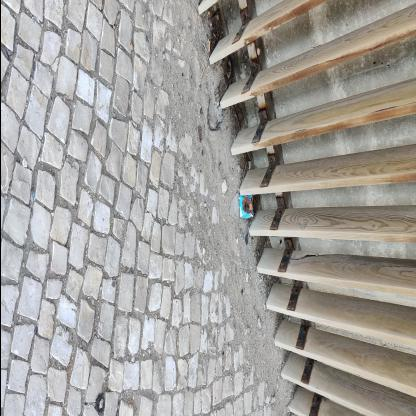karton: (237, 194, 253, 220)
